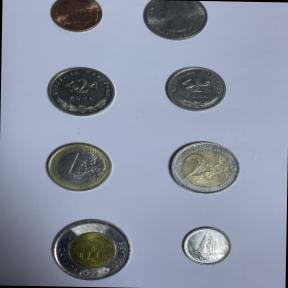coin: (47, 212, 135, 286), (162, 138, 246, 198), (40, 65, 120, 120), (43, 138, 114, 196), (136, 0, 212, 48), (176, 222, 236, 268), (45, 0, 108, 40)
